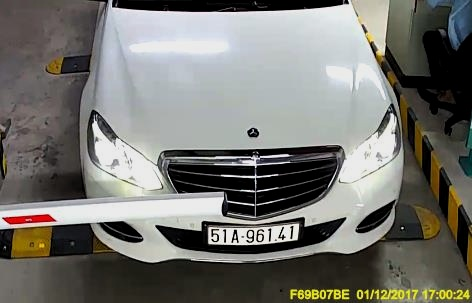plate: (205, 218, 303, 248)
